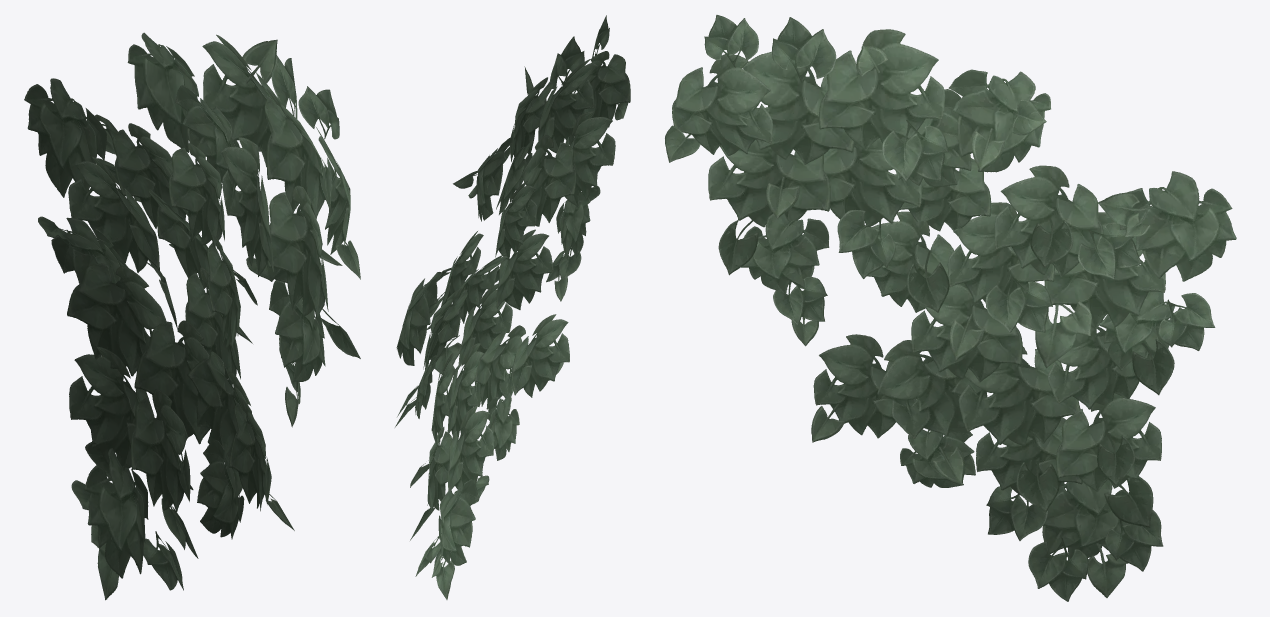
The picture shows the model from 3 angles, left to right: view 1: azimuth 30°, elevation 25°; view 2: azimuth 150°, elevation 25°; view 3: azimuth 270°, elevation 25°; orthographic projection. The views are drawn at different scales.
Size of the model in its own units: 0.3937 by 2.69 by 2.47.
1 material, 1 textured.
